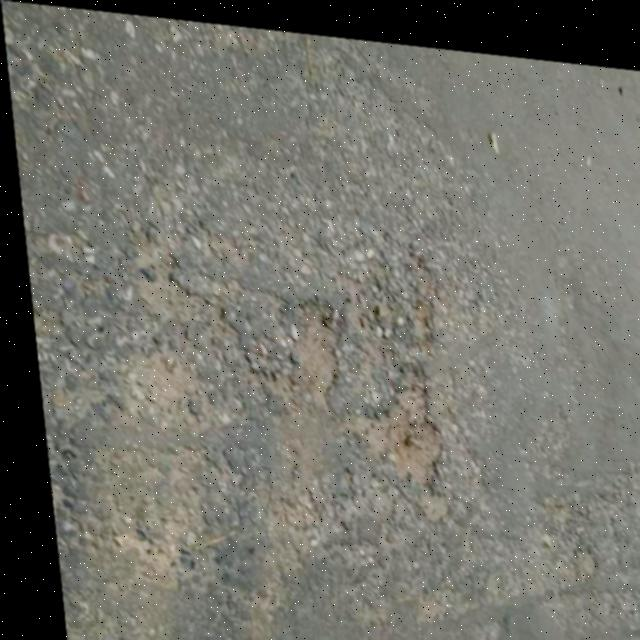Pothole: (344, 374, 439, 482), (283, 295, 343, 395)
